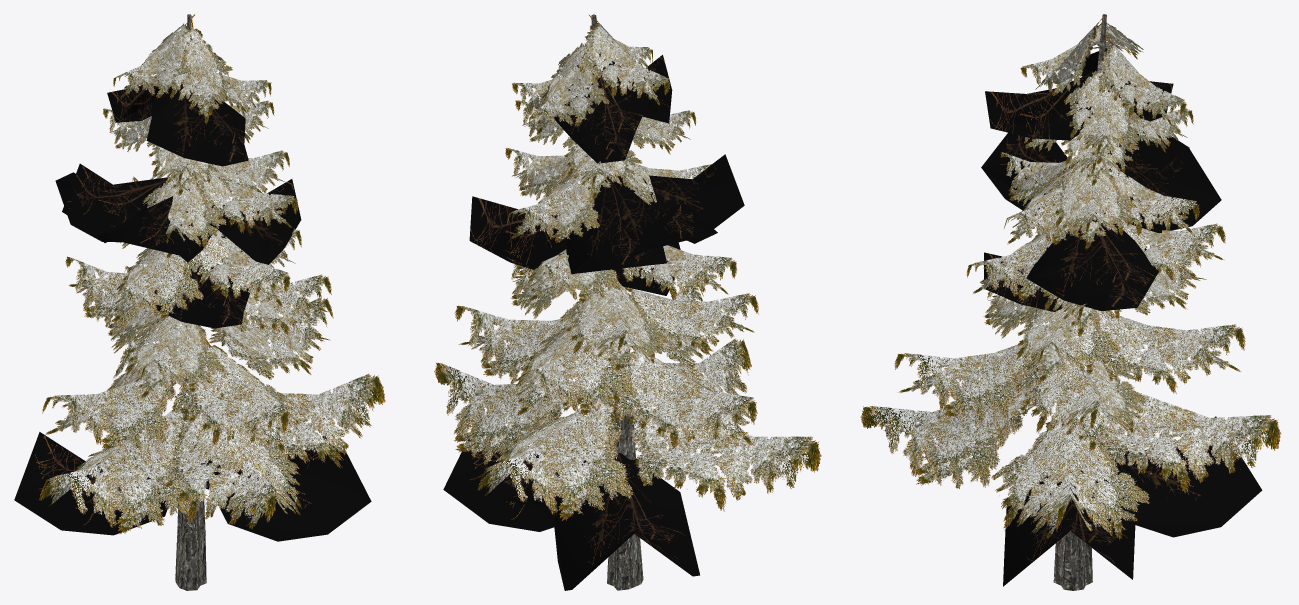
Rendered from Win_DryPine01.DAE.
The picture shows the model from 3 angles, left to right: view 1: azimuth 30°, elevation 25°; view 2: azimuth 150°, elevation 25°; view 3: azimuth 270°, elevation 25°; orthographic projection. The views are drawn at different scales.
Visible parts, largest first — view 1: Foliage200, Foliage256; view 2: Foliage200, Foliage256; view 3: Foliage200, Foliage256.
Boxes of the visible parts, bbox=[...] form: Foliage200: bbox=[14, 14, 384, 582]; Foliage256: bbox=[15, 14, 385, 590]; Foliage200: bbox=[434, 15, 820, 590]; Foliage256: bbox=[434, 14, 821, 590]; Foliage200: bbox=[860, 17, 1280, 586]; Foliage256: bbox=[860, 14, 1281, 590].
Size of what is drawn, in the model's own units: 1035 by 1029 by 1526.
